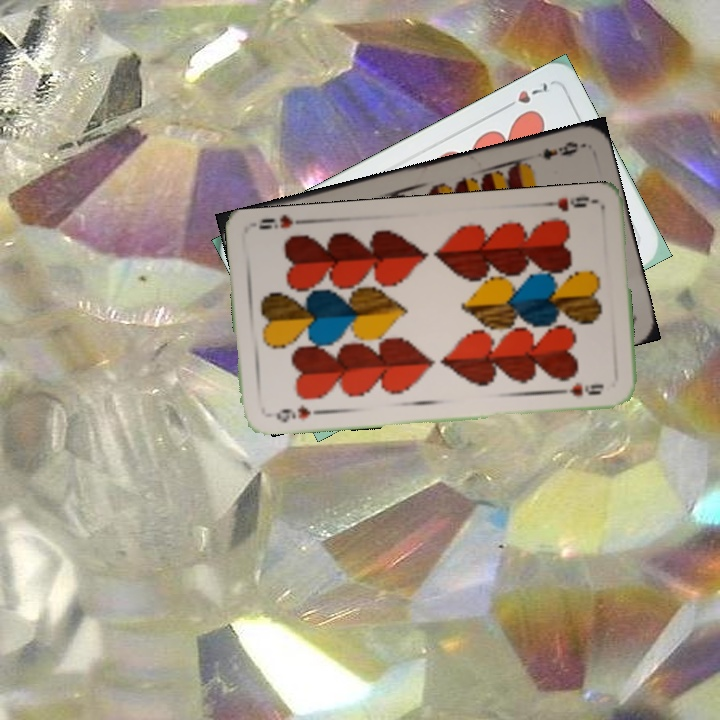E9: (539, 137, 585, 162)
H7: (498, 78, 553, 113)
H9: (539, 192, 598, 214), (272, 400, 313, 425)
